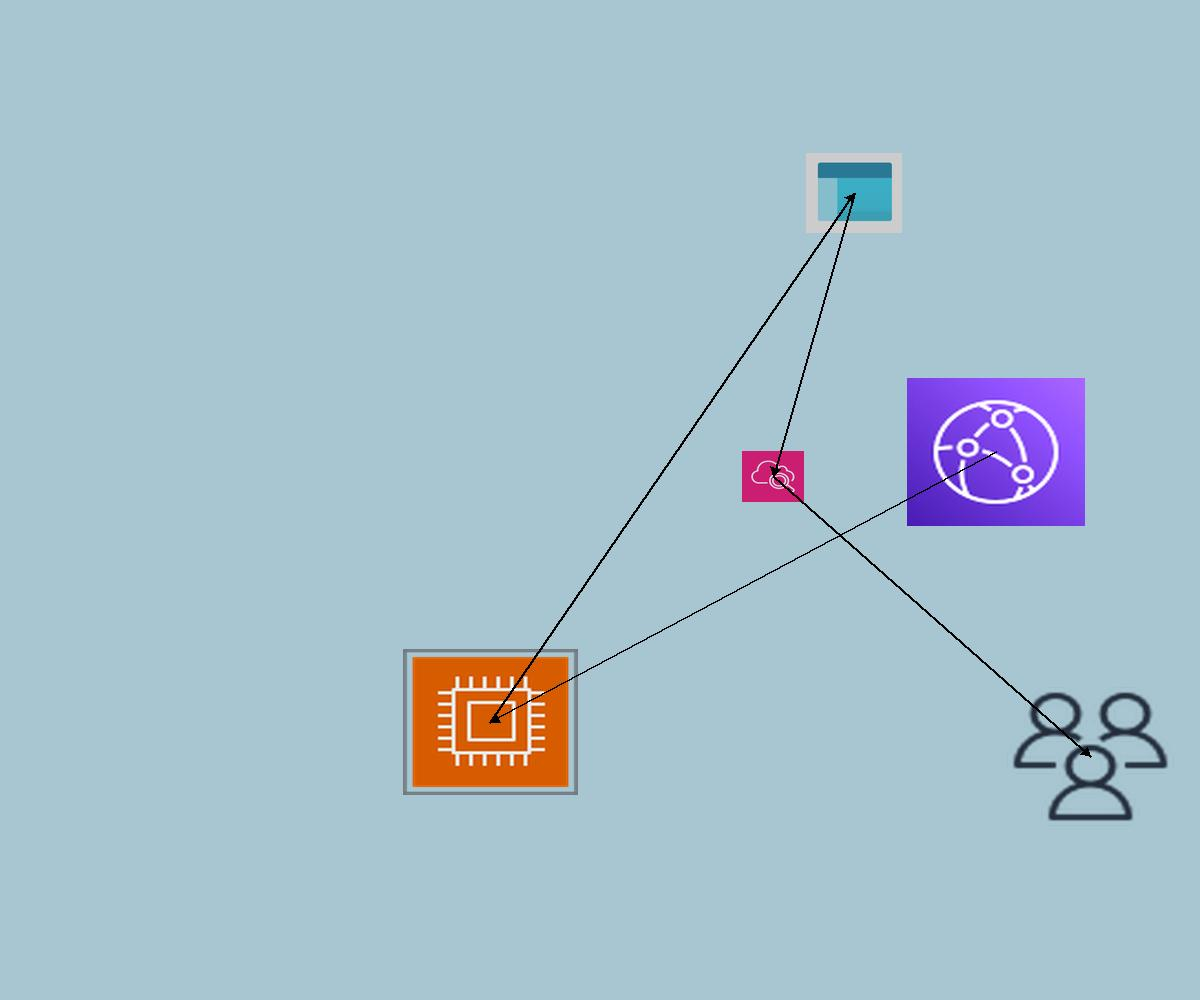AWS-Category_Compute: (403, 649, 578, 795)
AWS-CloudFront: (907, 378, 1085, 526)
AWS-CloudWatch: (742, 451, 804, 502)
AWS-Res_Users: (1007, 687, 1174, 826)
Azure_management-portal: (806, 153, 902, 233)
